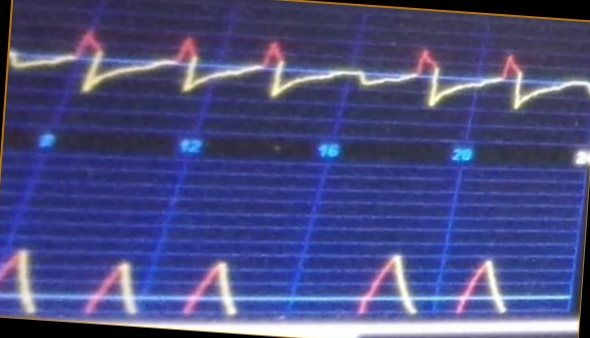Ineffective_effort Flow: (11, 20, 585, 120)
Ineffective_effort Volume: (1, 228, 510, 317)
